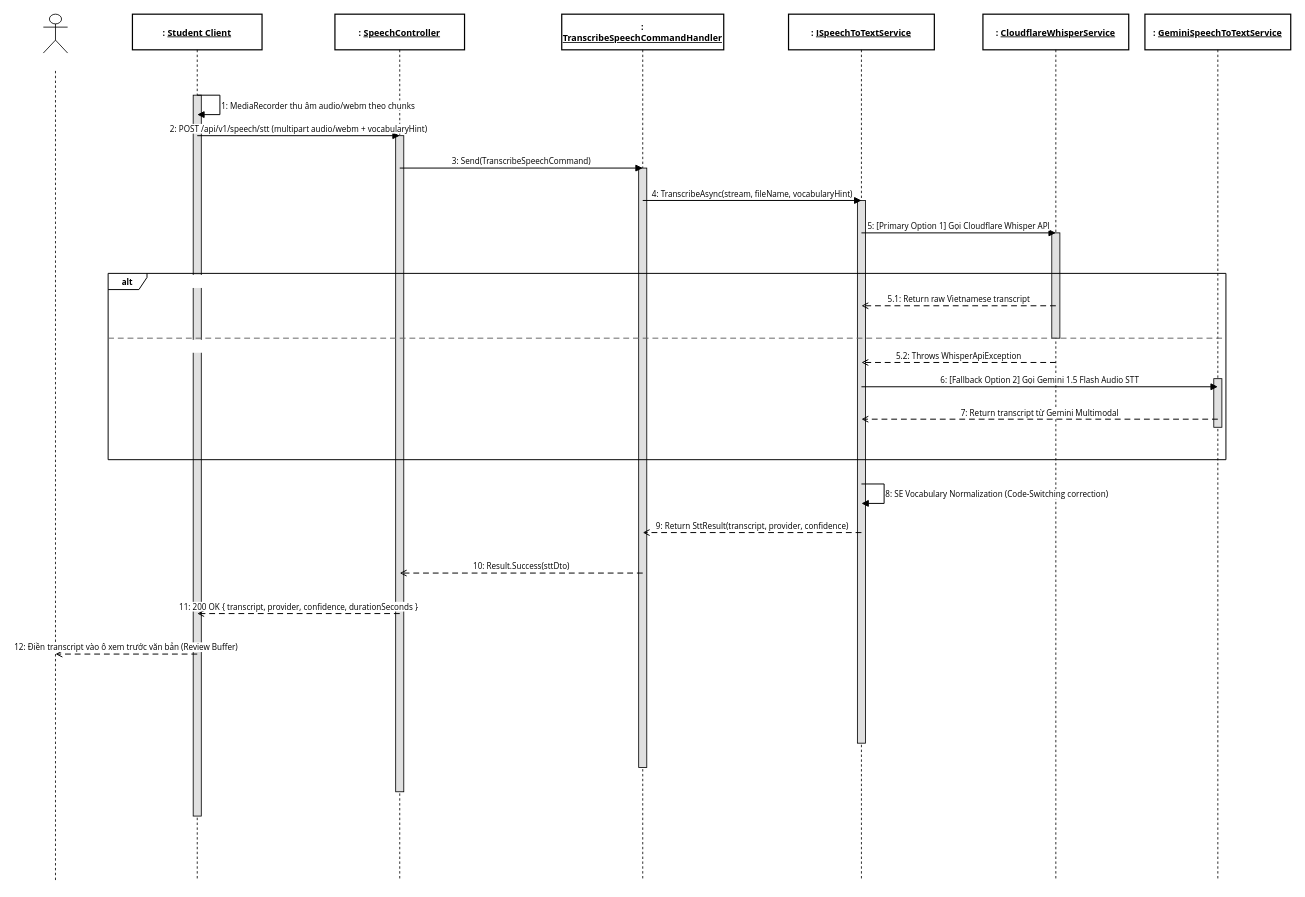
Some shapes in this 1305 by 897 pixel diagram are drawn without their labels. Each missing label, with the centre of its shape:
": Sinh viên" goes at [55,33].
"[Whisper Lỗi / Quá Tải 503 / Timeout]" goes at [227,345].
"[Whisper Thành Công]" goes at [211,281].
